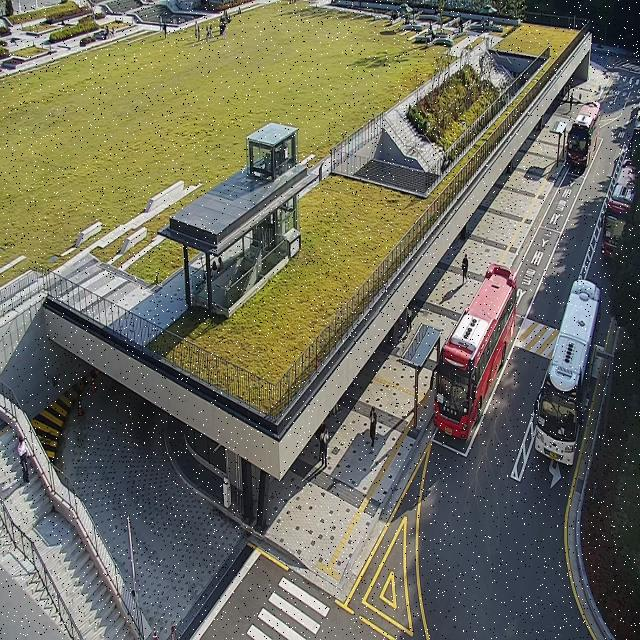queue: (411, 327, 441, 431)
